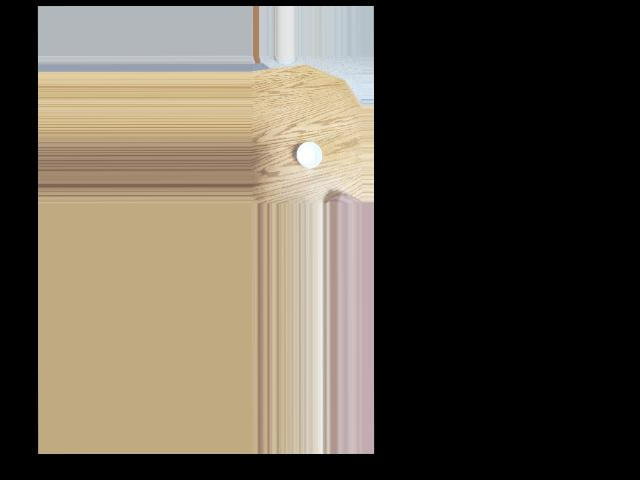cotage: (297, 139, 323, 171)
